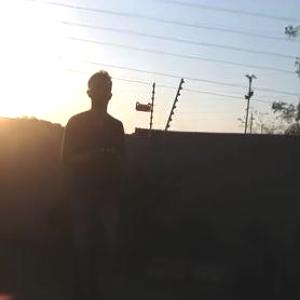follow: (55, 66, 131, 299)
